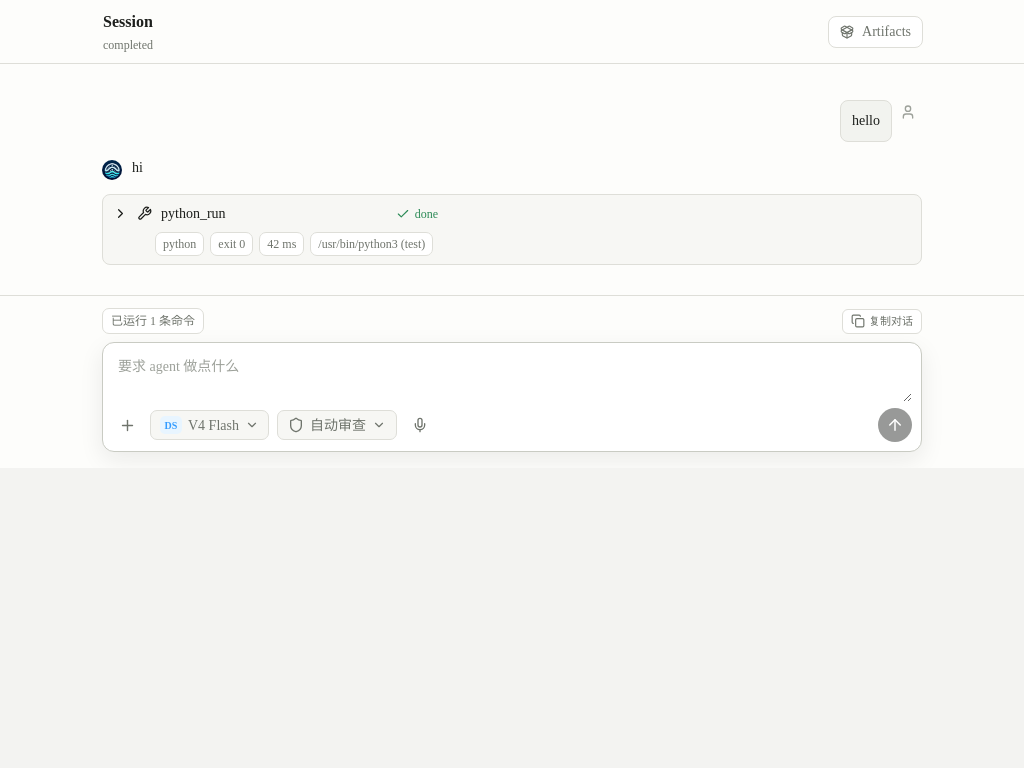
Test: ChatWorkspace › renders user, assistant, and tool cards
This screenshot has width=1024, height=768.
Check: the text "hello" is shown, box x1=840 y1=100 x2=892 y2=142
Check: the text "hi" is shown, box x1=132 y1=160 x2=143 y2=175
Step 1. Click the button "python_run done" → (193, 214), box x1=103 y1=195 x2=921 y2=232
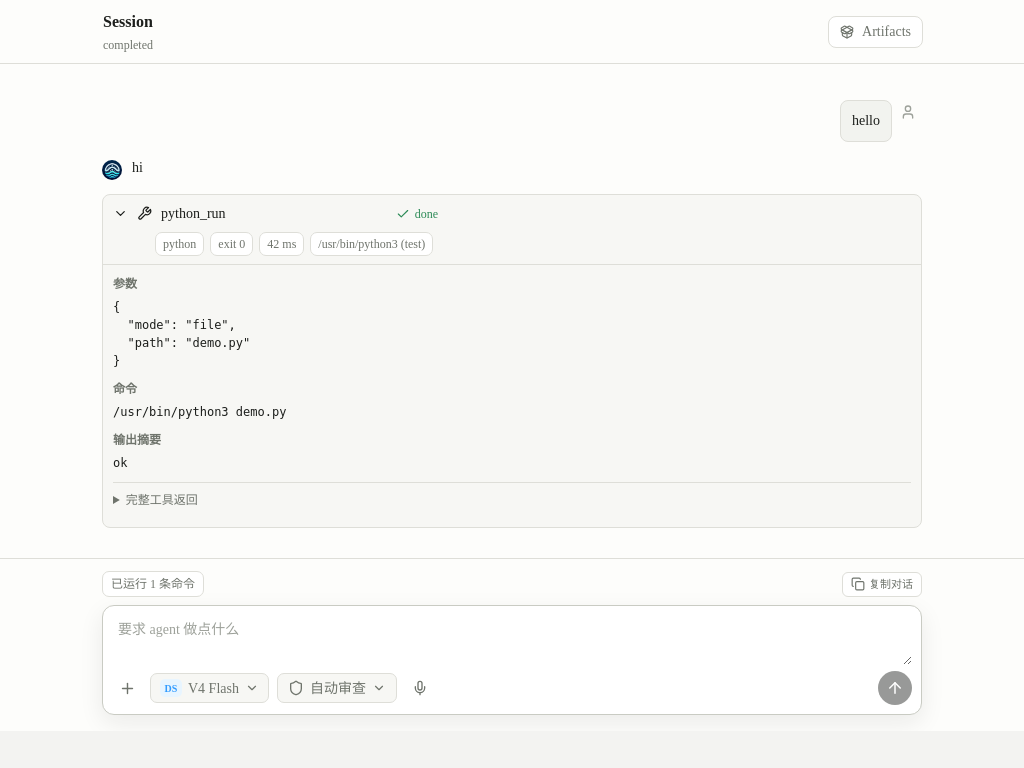
Check: the heading "参数" is shown, box x1=113 y1=277 x2=137 y2=291
Check: the heading "命令" is shown, box x1=113 y1=382 x2=137 y2=396
Check: the heading "输出摘要" is shown, box x1=113 y1=433 x2=161 y2=447
